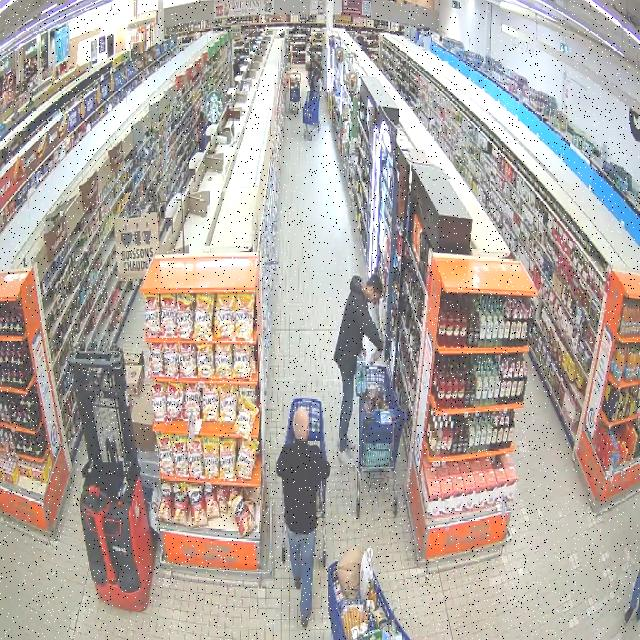article: (368, 348, 381, 365)
person: (277, 408, 329, 627), (334, 274, 383, 466)
